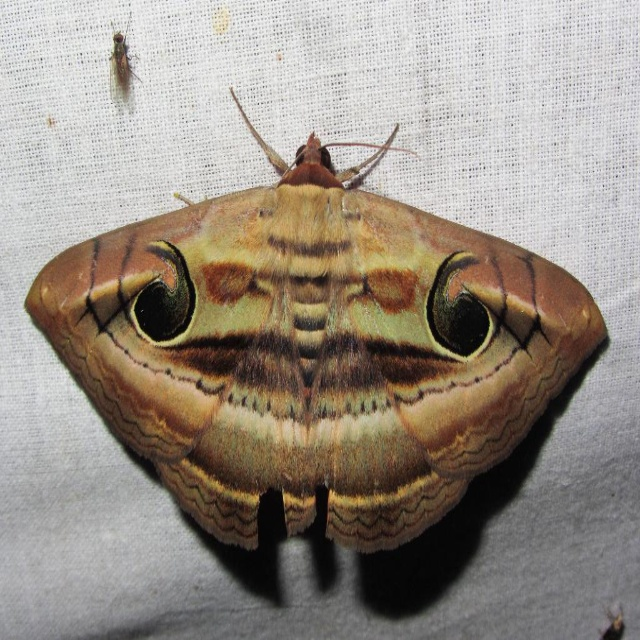Butterfly: (20, 125, 582, 589)
